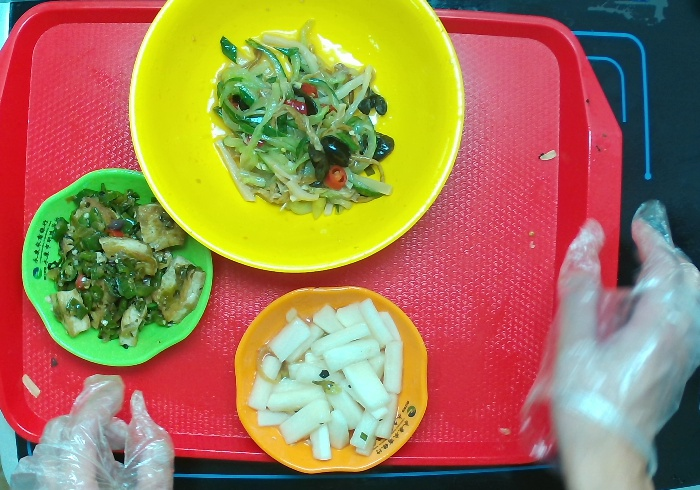YKMZ-Huang_Se_Tang_Wan: (123, 1, 468, 280)
YKMZ-Ju_Se_Ao_Bian_Wan: (229, 283, 433, 477)
YKMZ-Lv_Se_Ao_Bian_Wan: (18, 160, 218, 369)
